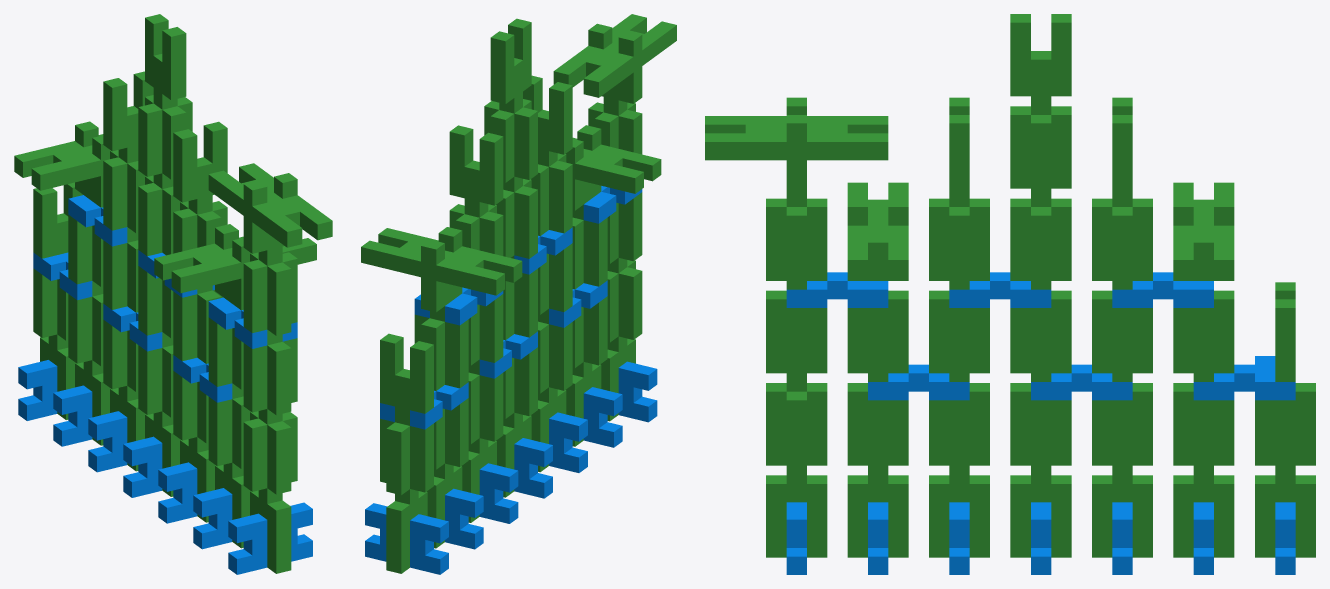
The picture shows the model from 3 angles, left to right: view 1: azimuth 30°, elevation 25°; view 2: azimuth 150°, elevation 25°; view 3: azimuth 270°, elevation 25°; orthographic projection. The views are drawn at different scales.
Visible parts, largest first — view 1: H_SIM (×28), X_SIM (×13); view 2: H_SIM (×28), X_SIM (×13); view 3: H_SIM (×28), X_SIM (×13).
Boxes of the visible parts, box(x1,y1,x2,y2) form: H_SIM (×28): box(14, 14, 332, 573); X_SIM (×13): box(18, 195, 312, 574); H_SIM (×28): box(361, 14, 676, 573); X_SIM (×13): box(365, 186, 657, 574); H_SIM (×28): box(705, 14, 1315, 557); X_SIM (×13): box(786, 272, 1295, 574).
Size of the model in its own units: 1.17 by 3.77 by 3.9.
